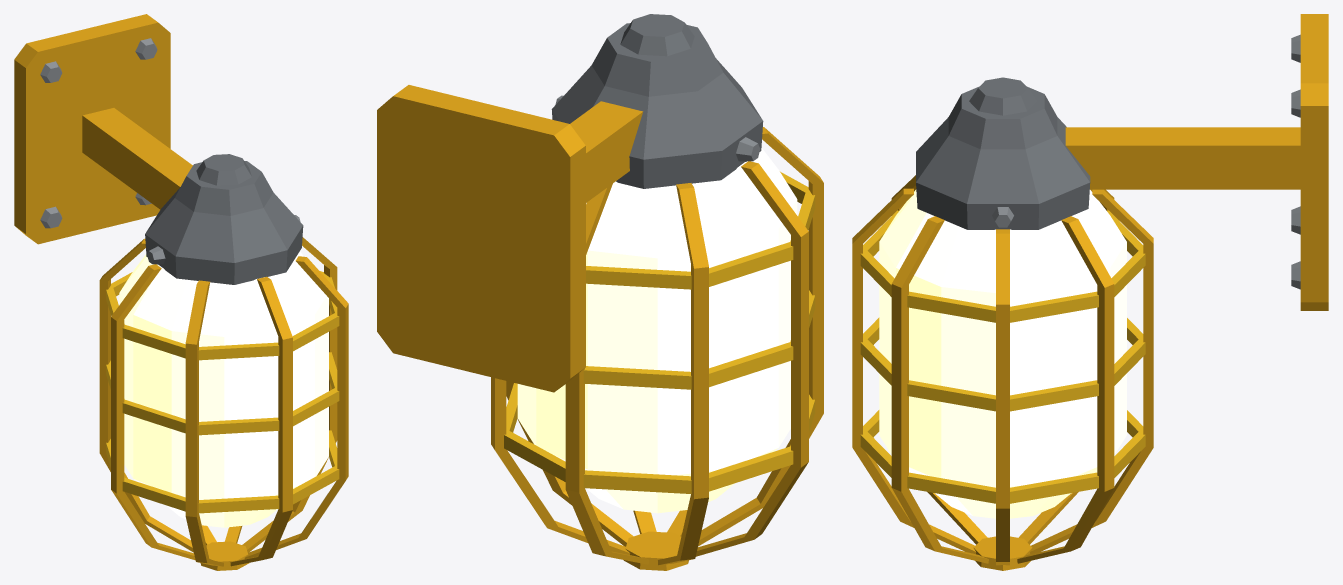
The model's file is Mining Wall Lighting.glb.
The picture shows the model from 3 angles, left to right: view 1: azimuth 30°, elevation 25°; view 2: azimuth 150°, elevation 25°; view 3: azimuth 270°, elevation 25°; orthographic projection. The views are drawn at different scales.
Visible parts, largest first — view 1: Mining Wall Lighting.Static; view 2: Mining Wall Lighting.Static; view 3: Mining Wall Lighting.Static.
Part boxes in pixels (bbox=[...]): Mining Wall Lighting.Static: bbox=[14, 14, 348, 570]; Mining Wall Lighting.Static: bbox=[377, 14, 823, 570]; Mining Wall Lighting.Static: bbox=[852, 14, 1328, 570].
Bounding box in the file's own units: 0.348 × 0.649 × 0.55.
